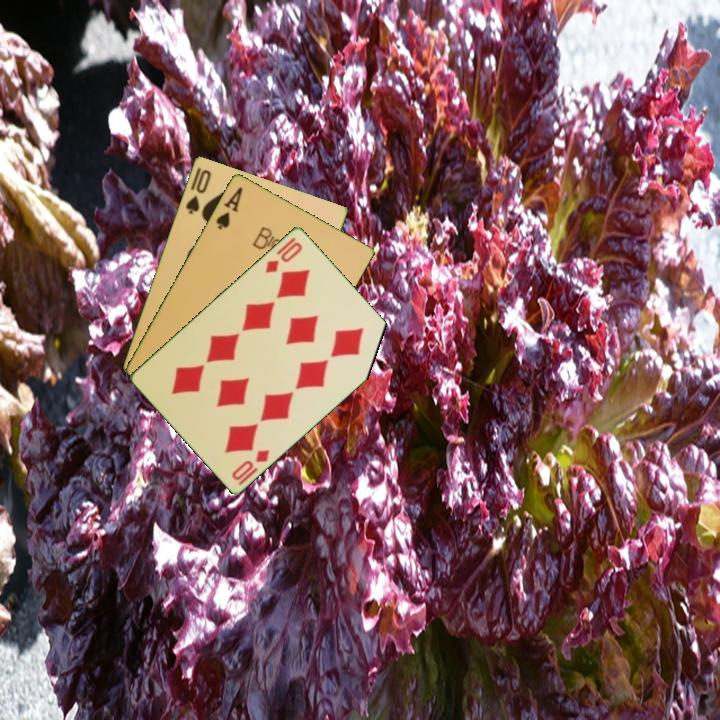10d: (228, 445, 272, 483), (262, 238, 305, 276)
10s: (182, 166, 214, 217)
As: (212, 183, 246, 232)
